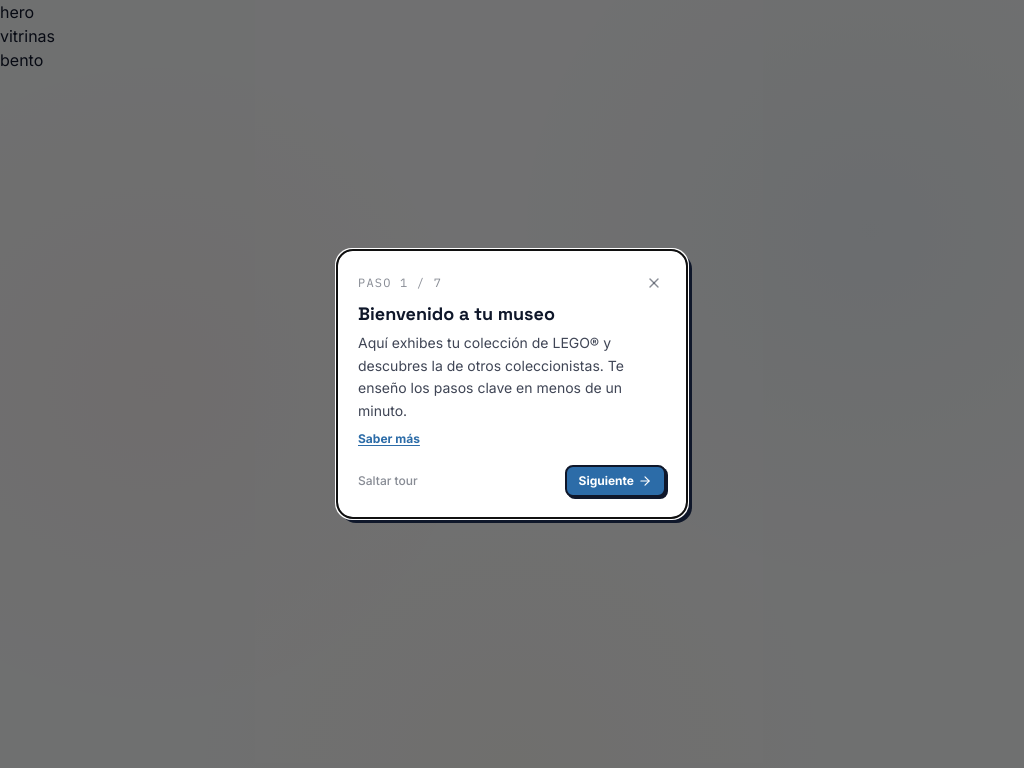
Test: TourOverlay › cierra al pulsar 'Saltar tour' y persiste la flag
Expected: the dialog is shown, [336, 249, 688, 519]
Click the button "Saltar tour" at (388, 481), box [358, 473, 418, 489]
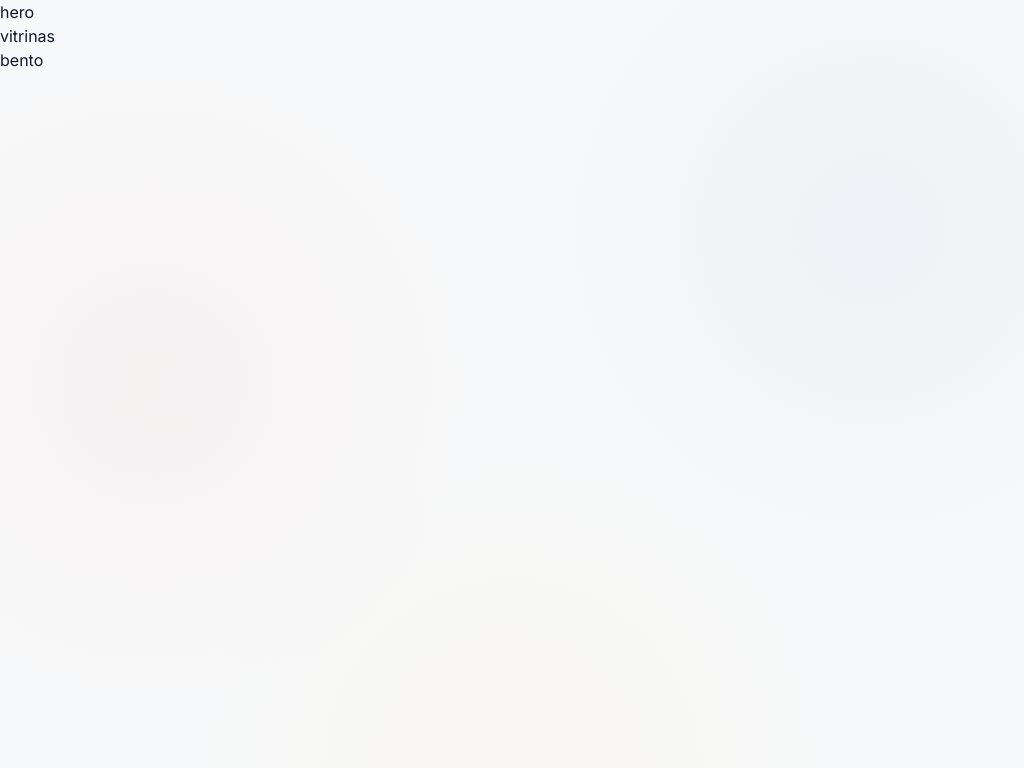
Expected: the dialog is gone
